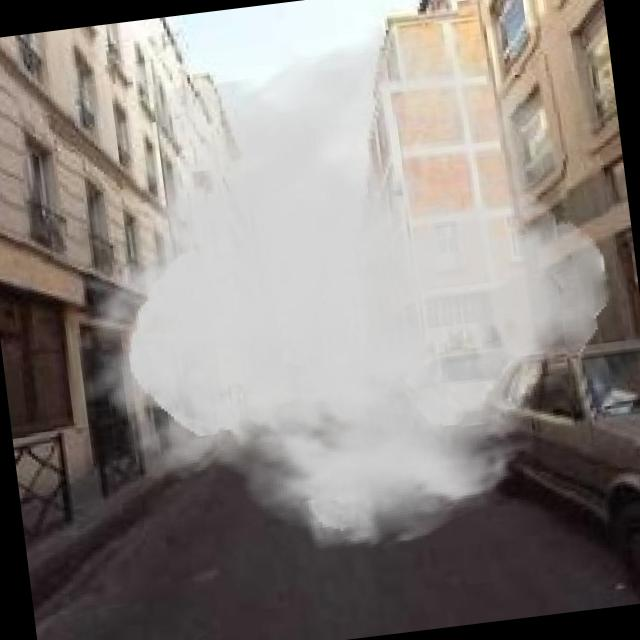Smoke: (38, 0, 639, 585)
